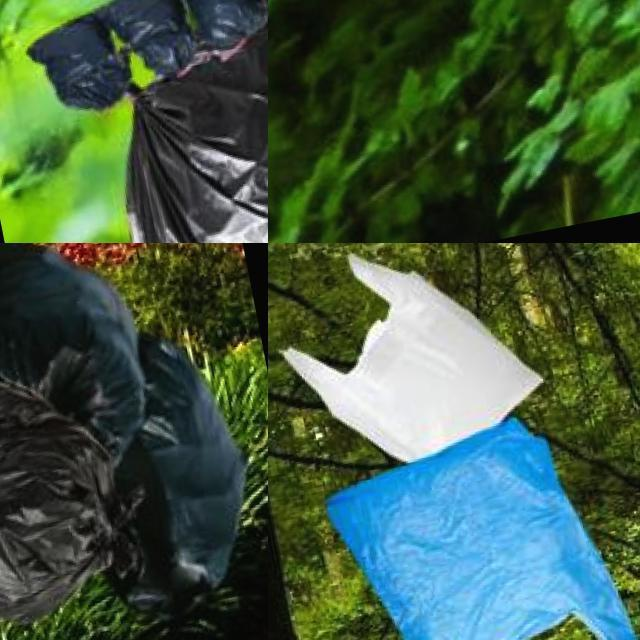waste: (311, 406, 640, 640), (268, 243, 562, 478), (0, 309, 165, 640), (87, 0, 268, 243), (31, 9, 134, 119), (104, 0, 197, 88), (167, 0, 268, 59)
